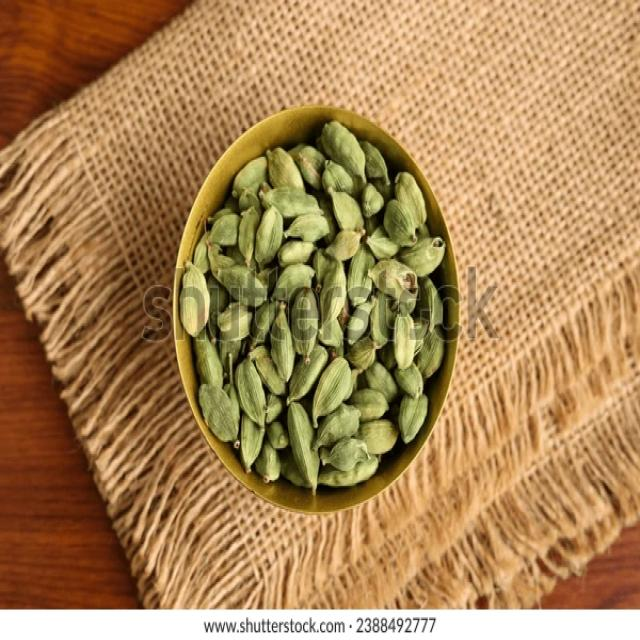Cardamom: (182, 114, 458, 482)
